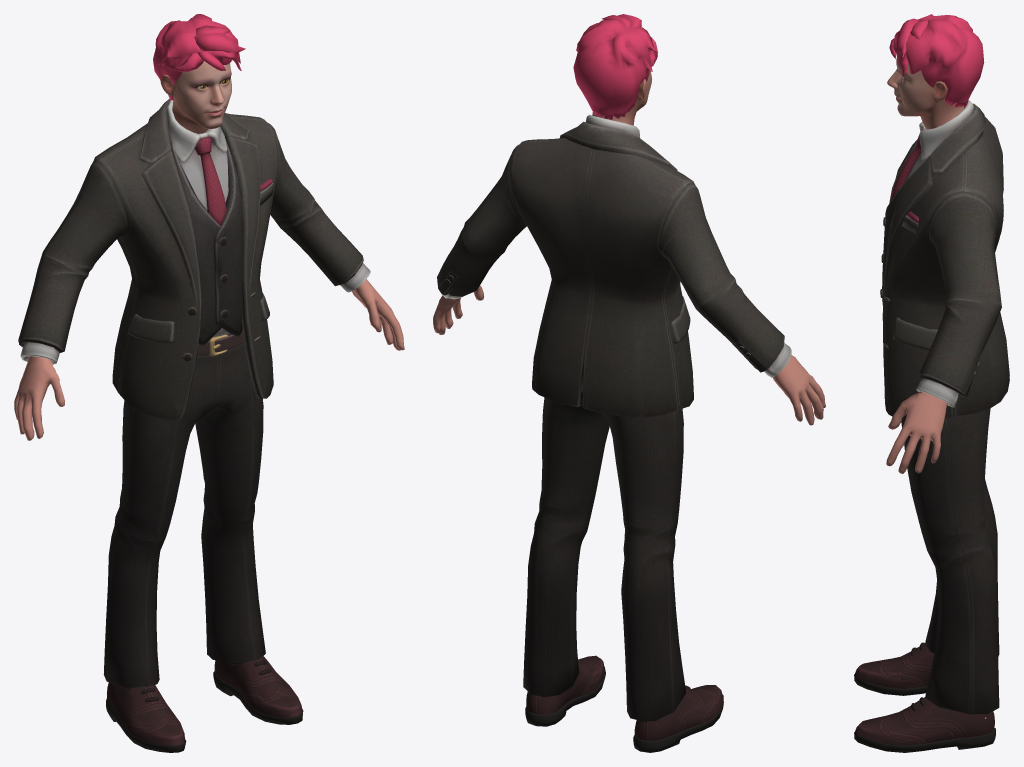
The picture shows the model from 3 angles, left to right: view 1: azimuth 30°, elevation 25°; view 2: azimuth 150°, elevation 25°; view 3: azimuth 270°, elevation 25°; orthographic projection.
Visible parts, largest first — view 1: Wolf3D_Outfit_Top, Wolf3D_Outfit_Bottom, Wolf3D_Outfit_Footwear, Wolf3D_Hair, Wolf3D_Body, Wolf3D_Head; view 2: Wolf3D_Outfit_Top, Wolf3D_Outfit_Bottom, Wolf3D_Hair, Wolf3D_Outfit_Footwear, Wolf3D_Body; view 3: Wolf3D_Outfit_Top, Wolf3D_Outfit_Bottom, Wolf3D_Outfit_Footwear, Wolf3D_Hair, Wolf3D_Body, Wolf3D_Head.
Part boxes in pixels (x1,y1,x2,y2): Wolf3D_Outfit_Top: [18, 99, 370, 420]; Wolf3D_Outfit_Bottom: [103, 330, 265, 688]; Wolf3D_Outfit_Footwear: [106, 655, 303, 752]; Wolf3D_Hair: [153, 14, 245, 100]; Wolf3D_Body: [14, 279, 404, 440]; Wolf3D_Head: [160, 61, 231, 133]; Wolf3D_Outfit_Top: [437, 114, 791, 417]; Wolf3D_Outfit_Bottom: [523, 397, 686, 722]; Wolf3D_Hair: [573, 14, 657, 119]; Wolf3D_Outfit_Footwear: [525, 655, 723, 752]; Wolf3D_Body: [433, 285, 825, 724]; Wolf3D_Outfit_Top: [880, 100, 1009, 419]; Wolf3D_Outfit_Bottom: [901, 408, 999, 714]; Wolf3D_Outfit_Footwear: [854, 642, 995, 752]; Wolf3D_Hair: [889, 14, 984, 107]; Wolf3D_Body: [886, 391, 986, 718]; Wolf3D_Head: [887, 57, 964, 129].
Size of the model in its own units: 1.06 by 1.86 by 0.3773.
9 materials, 9 textured.
